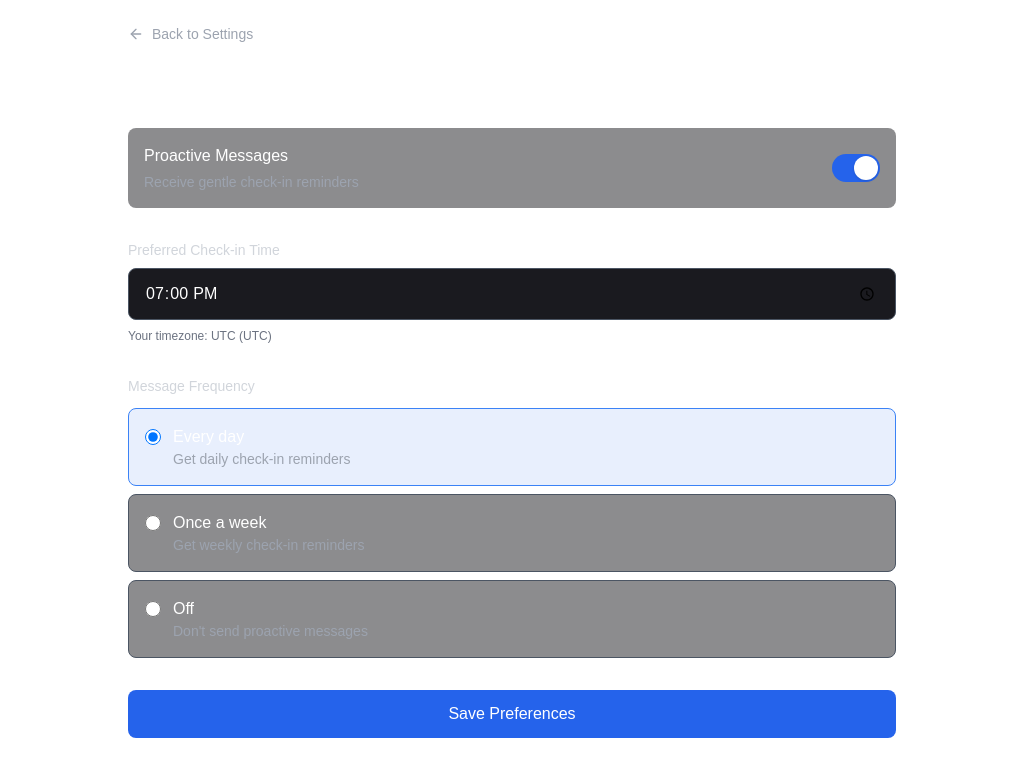
Test: PreferencesPage › AC1: Set Preferred Check-in Time › shows success confirmation after saving
// Change time
Replace the text in the time field labelled "Preferred Check-in Time" with "08:00" at (512, 294), box [128, 268, 896, 320]
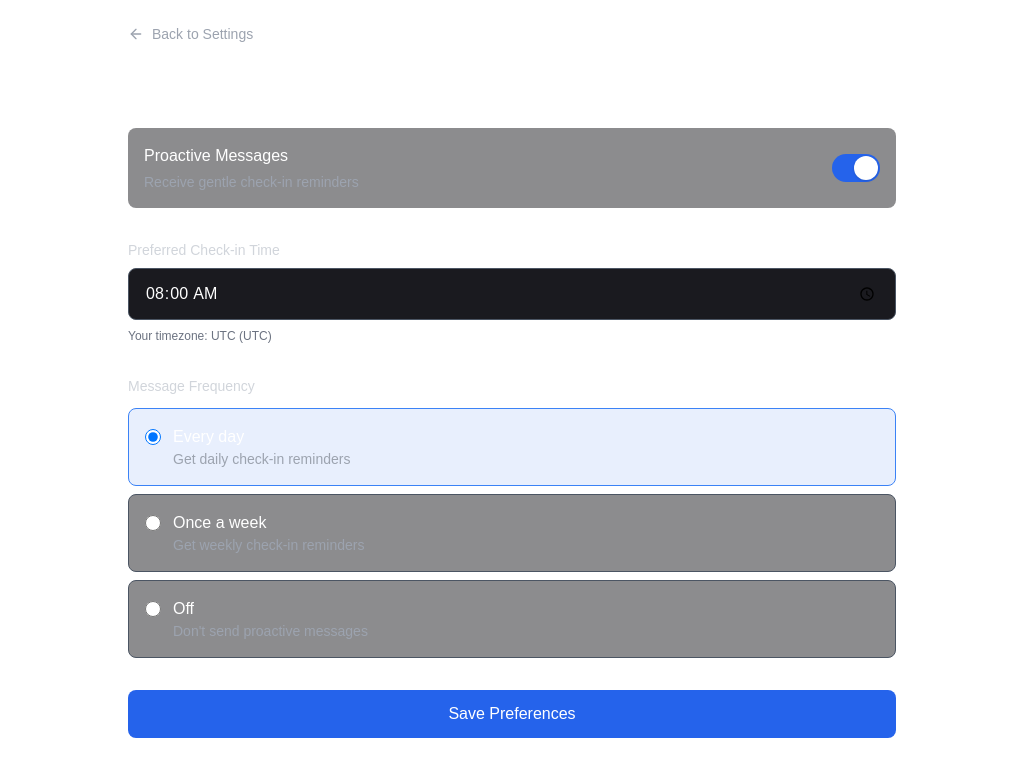
// Submit form
Click the button "Save Preferences" at (512, 714), box [128, 690, 896, 738]
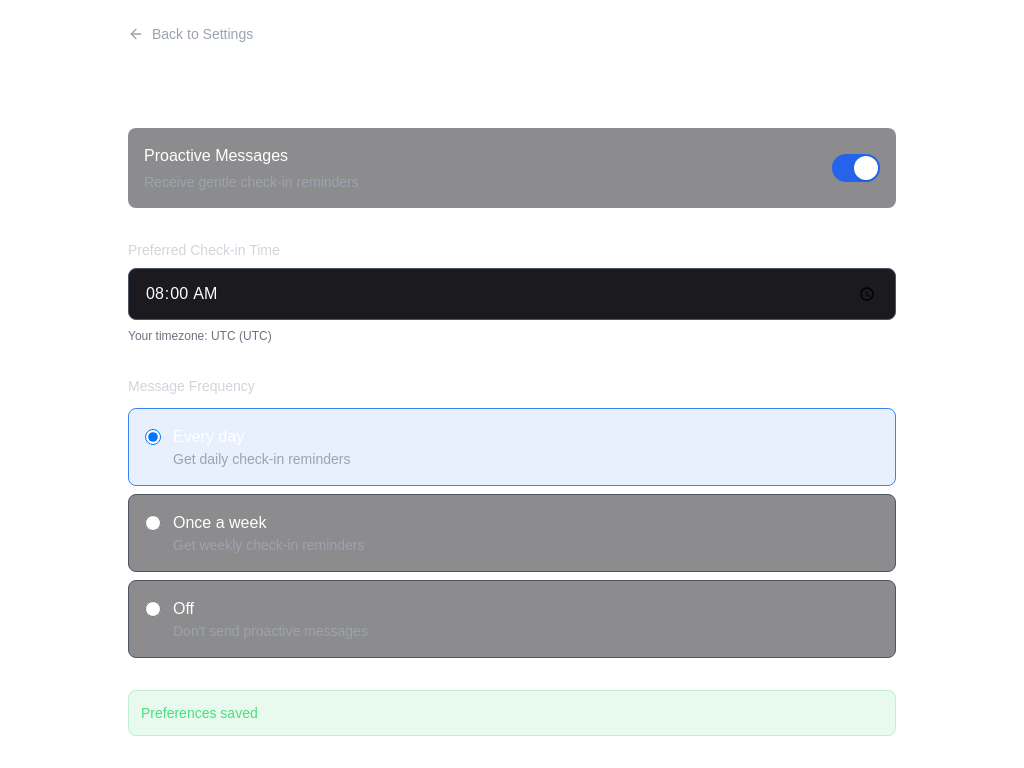
expect the text "Preferences saved" is shown: met, box [141, 705, 258, 721]
